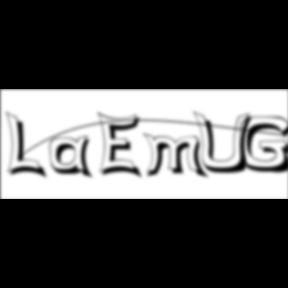E: (97, 110, 146, 182)
L: (6, 110, 50, 182)
U: (192, 110, 258, 176)
a: (50, 135, 98, 182)
m: (143, 132, 211, 181)
